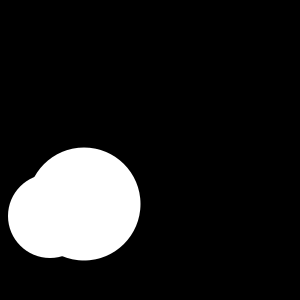rectangle: (28, 148, 140, 260), (8, 174, 92, 258)
